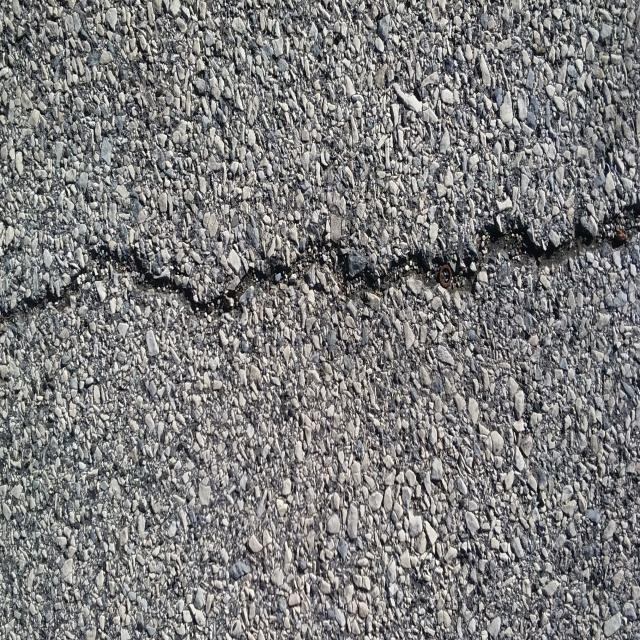Crack: (0, 202, 640, 329)
